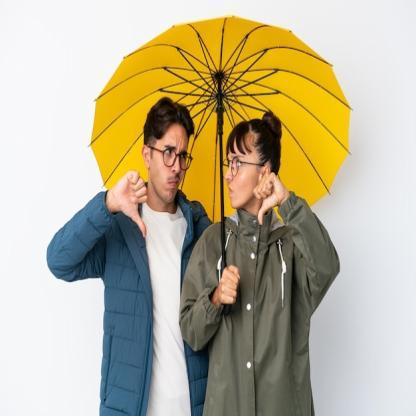thumb_down: (110, 165, 150, 241), (252, 168, 282, 227)
